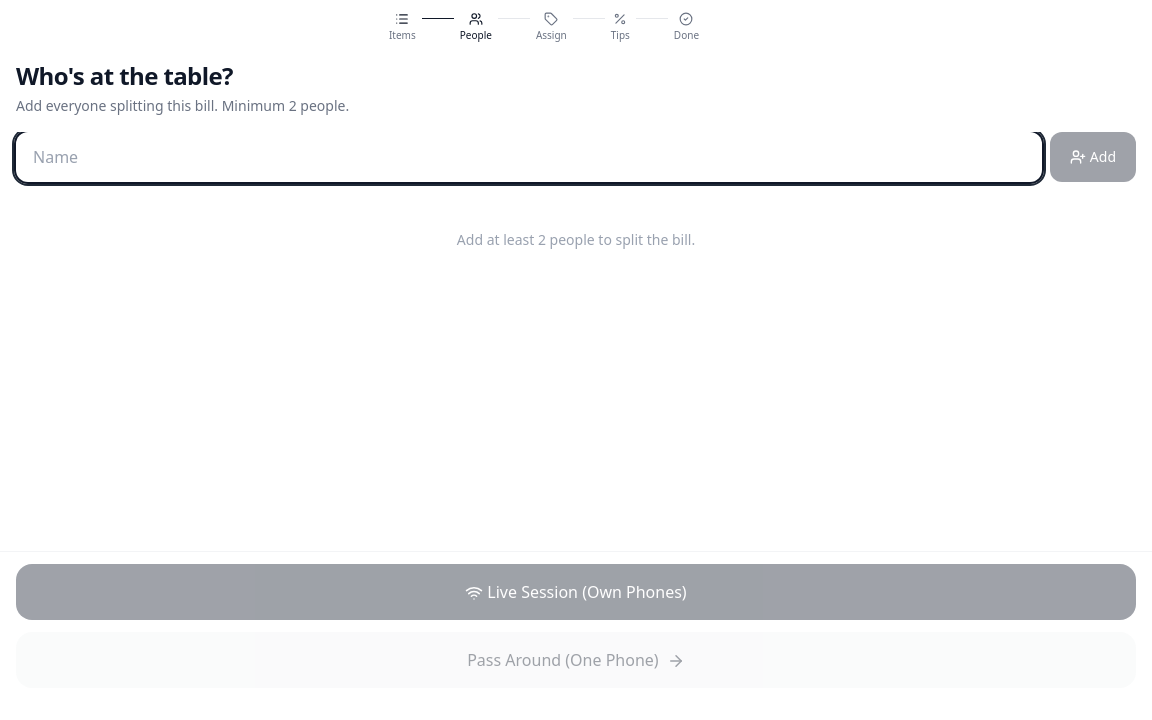
Test case: PeopleSetupPage › adds a person when Add button is clicked
In the field named "person's name": (529, 157) [16, 132, 1042, 182], type "Alice"
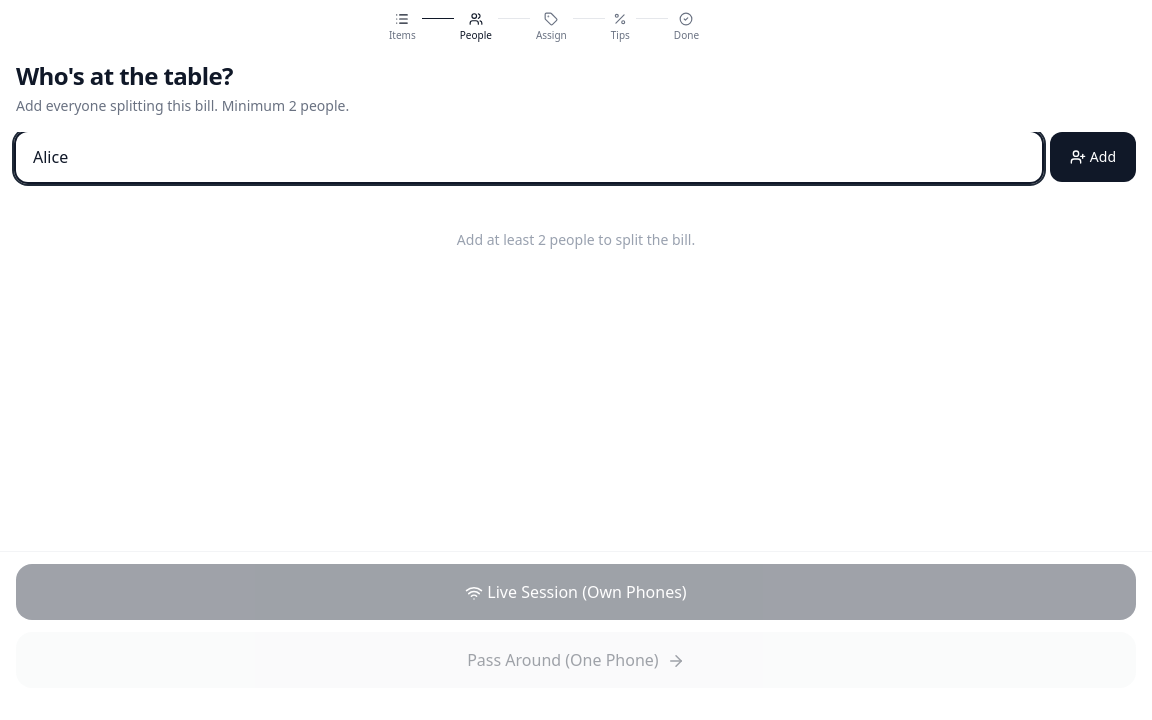
Click the button with aria-label "add person": (1093, 157) [1050, 132, 1136, 182]
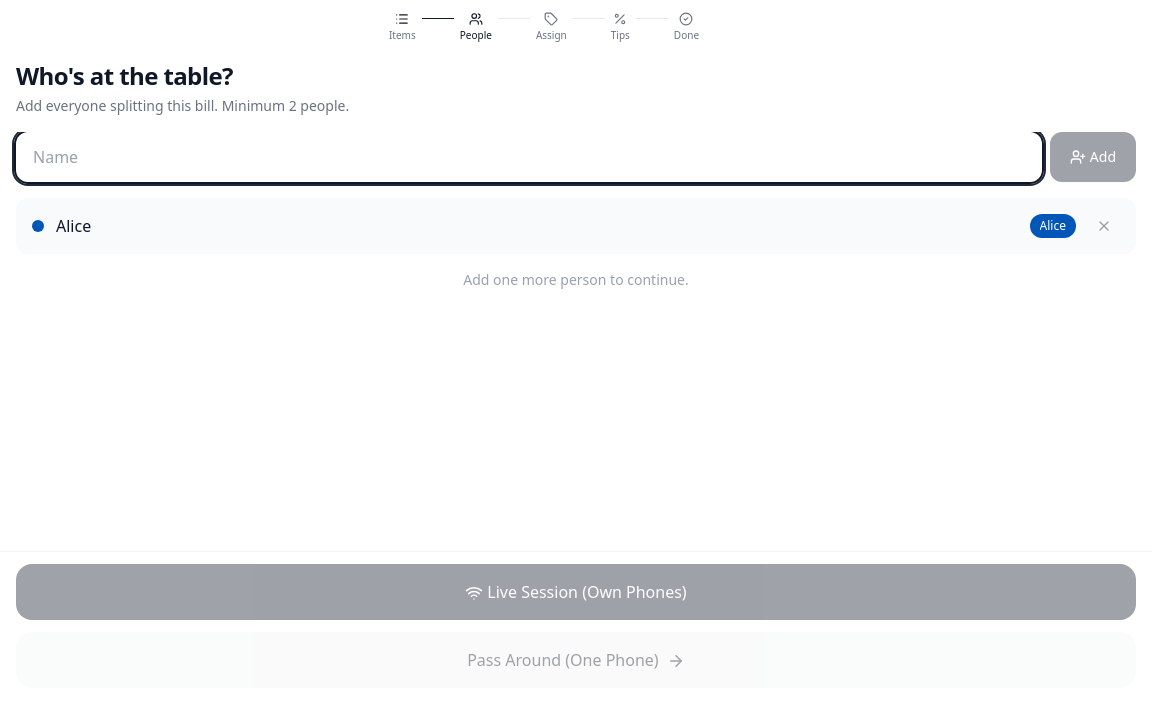
Expected: the button with aria-label "edit alice" is shown, [56, 214, 1018, 238]
